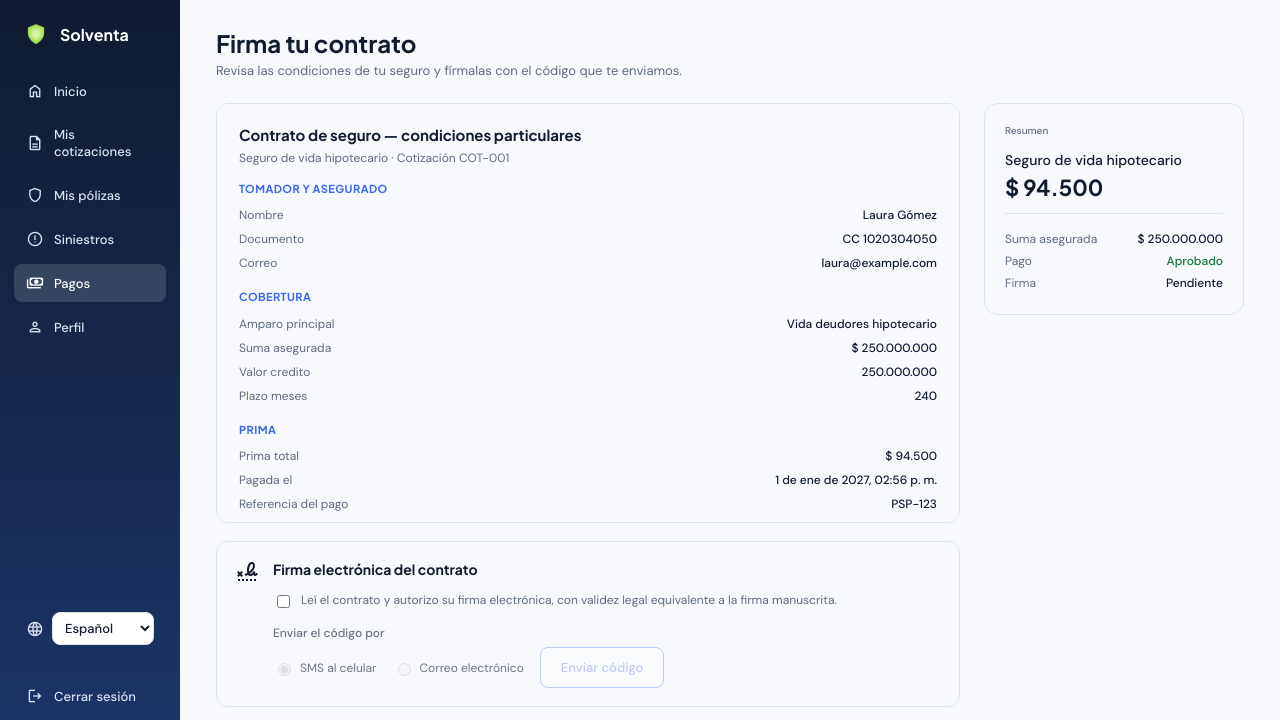
Scenario: exige autorizar antes de enviar el código
Expected: the button "Enviar código" is disabled, [540,647,664,688]
Click the checkbox at (284, 602), box [277,595,290,608]
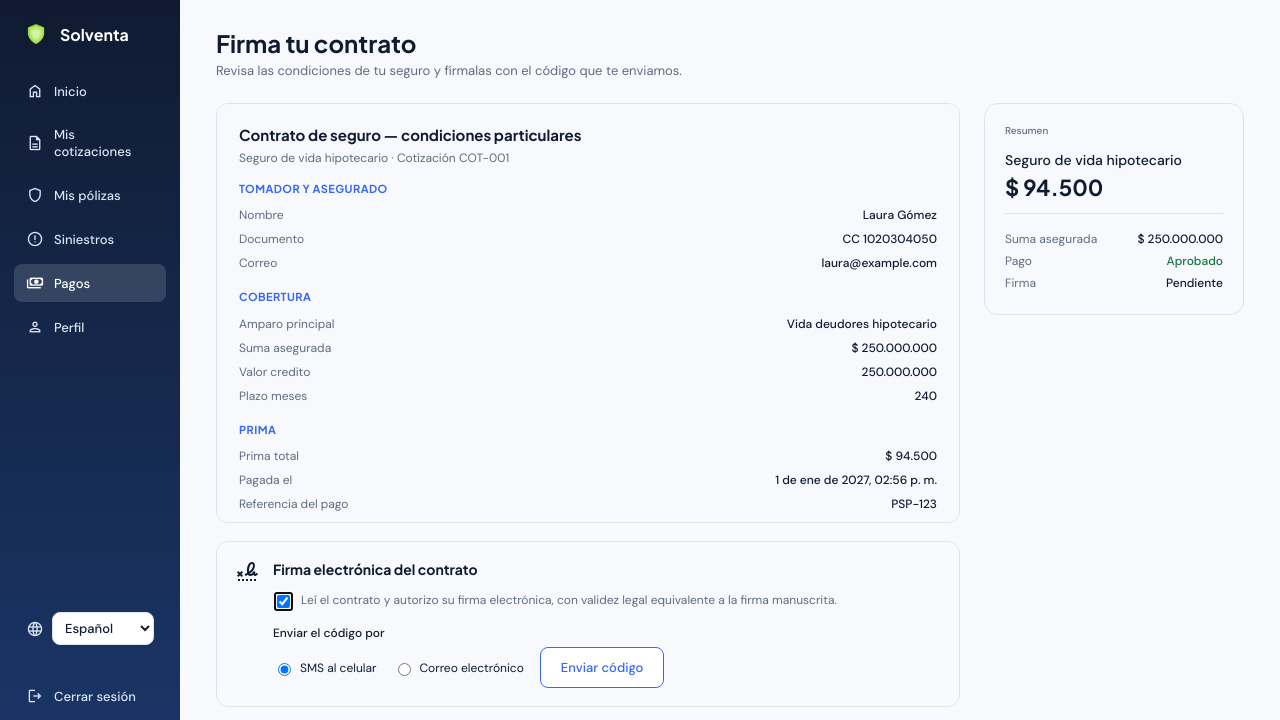
Click the radio button labelled "Correo electrónico" at (404, 669), box [398,662,410,676]
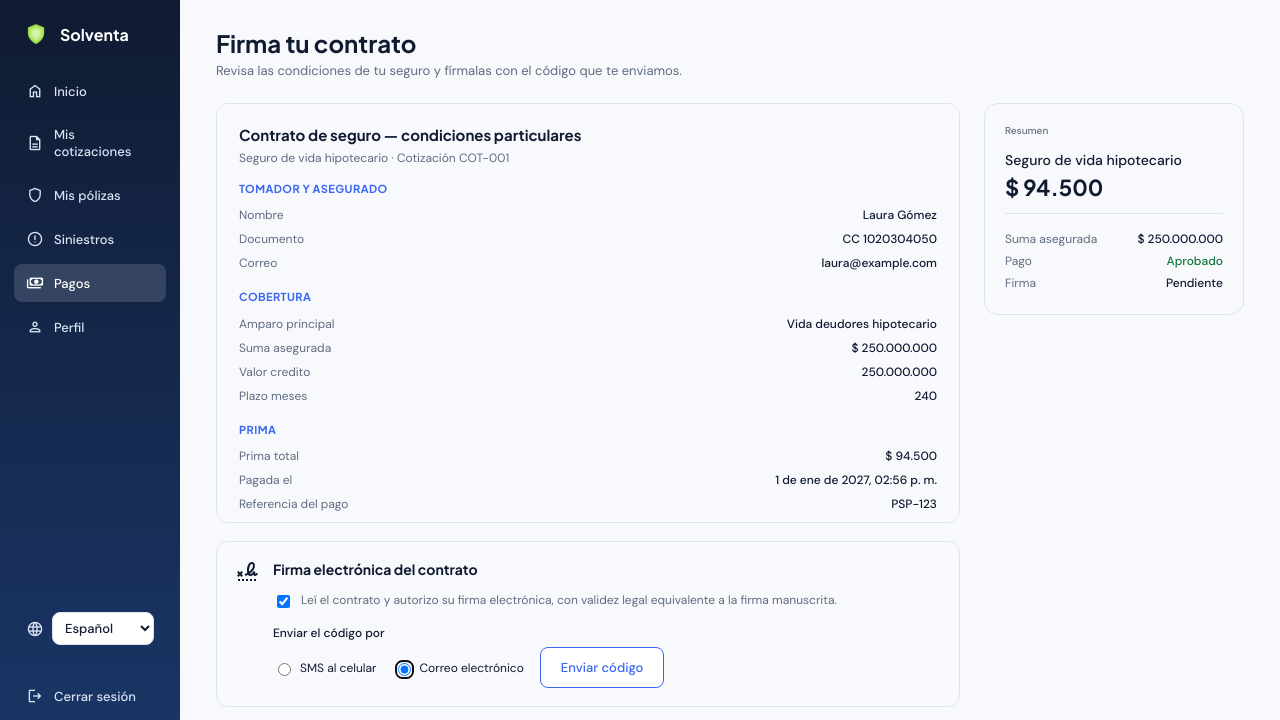
Click the button "Enviar código" at (602, 668), box [540,647,664,688]
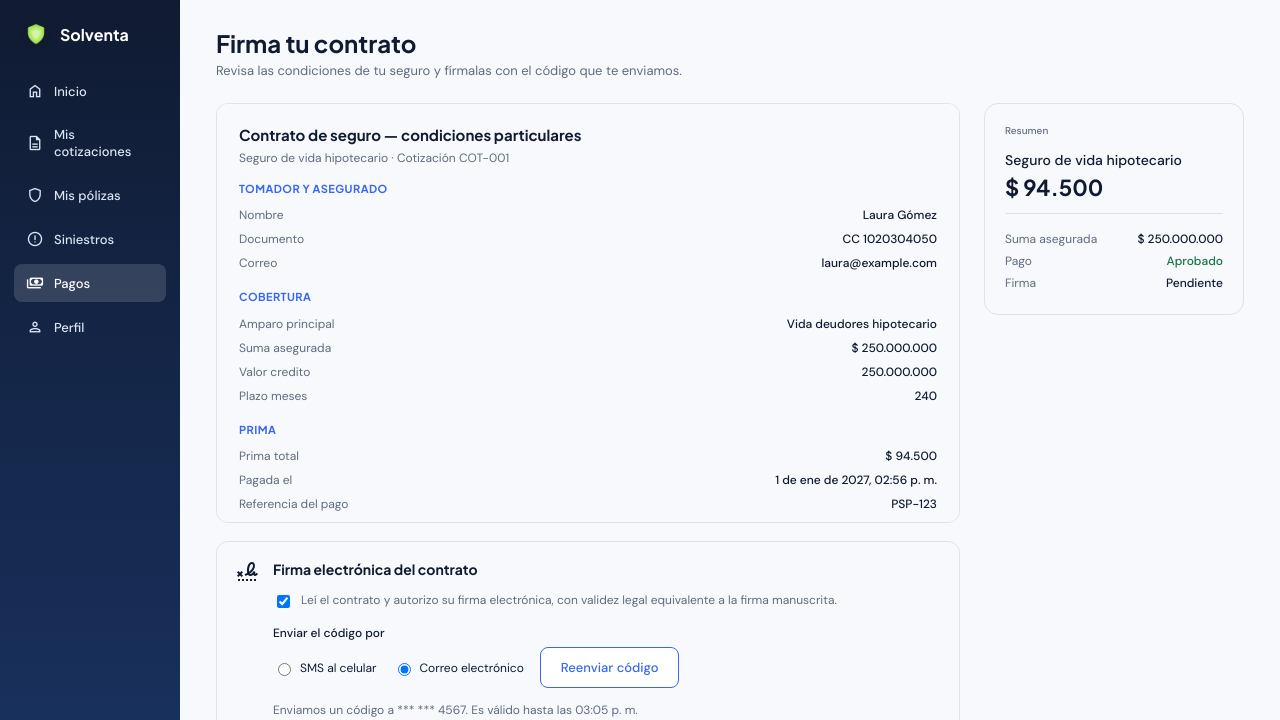
Result: the text "Enviamos un código a *** *** 4567. Es válido hasta las 03:05 p. m." is shown at [273,702,638,718]
